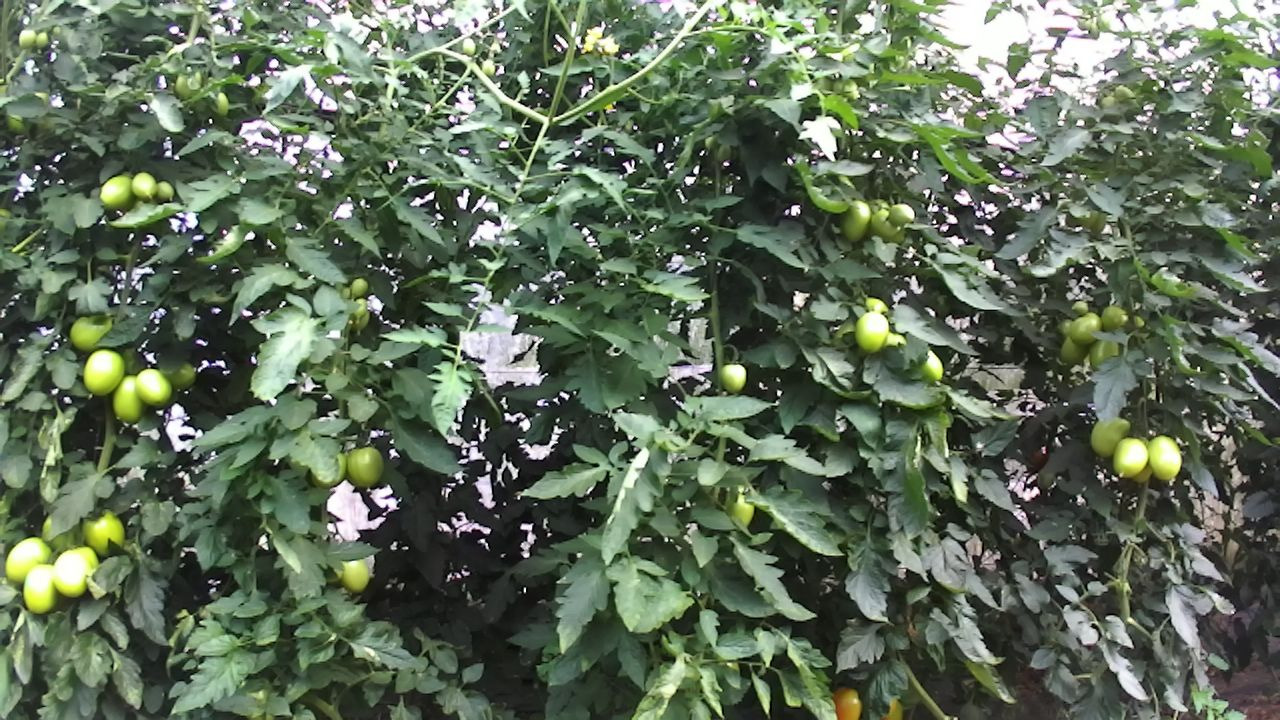tomato: (76, 503, 130, 559), (64, 306, 119, 356), (3, 532, 53, 584), (80, 343, 126, 397), (48, 546, 92, 602), (1109, 430, 1152, 483), (1089, 412, 1134, 460), (340, 443, 385, 491), (107, 371, 146, 426), (22, 560, 60, 615), (1146, 431, 1184, 486), (131, 366, 178, 409), (852, 307, 891, 357), (836, 197, 875, 246), (96, 171, 137, 213), (338, 556, 372, 596), (716, 358, 748, 399), (1069, 311, 1104, 347), (1055, 331, 1090, 367), (1098, 301, 1133, 336), (127, 167, 158, 202), (885, 199, 919, 229), (345, 276, 370, 302), (154, 178, 177, 203)
